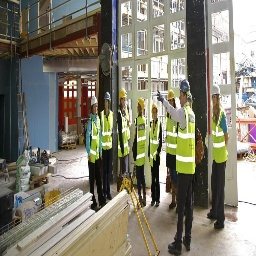helmet: (178, 77, 191, 105), (210, 84, 222, 106), (90, 94, 99, 113), (137, 97, 146, 116), (118, 89, 127, 107), (152, 102, 159, 119), (167, 92, 176, 105), (104, 91, 111, 107)
person: (174, 78, 197, 256), (210, 82, 230, 235), (164, 89, 179, 216), (88, 92, 103, 214), (134, 95, 149, 210), (99, 90, 114, 203), (117, 87, 132, 195), (148, 102, 163, 209)
vest: (177, 109, 196, 181), (211, 108, 229, 170), (88, 112, 102, 170), (134, 114, 148, 167), (118, 105, 131, 161), (165, 102, 177, 161), (149, 118, 161, 169), (103, 110, 114, 157)
